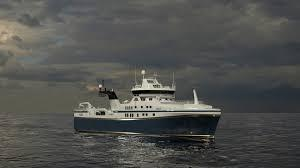Ship: (74, 68, 223, 135)
